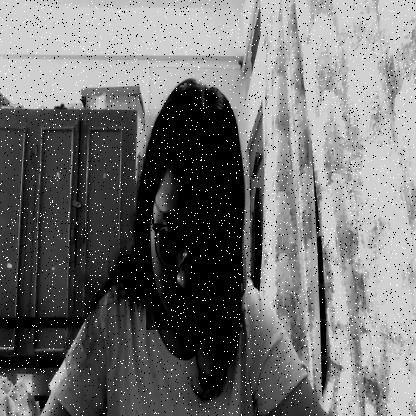Distracted: (146, 109, 238, 330)
